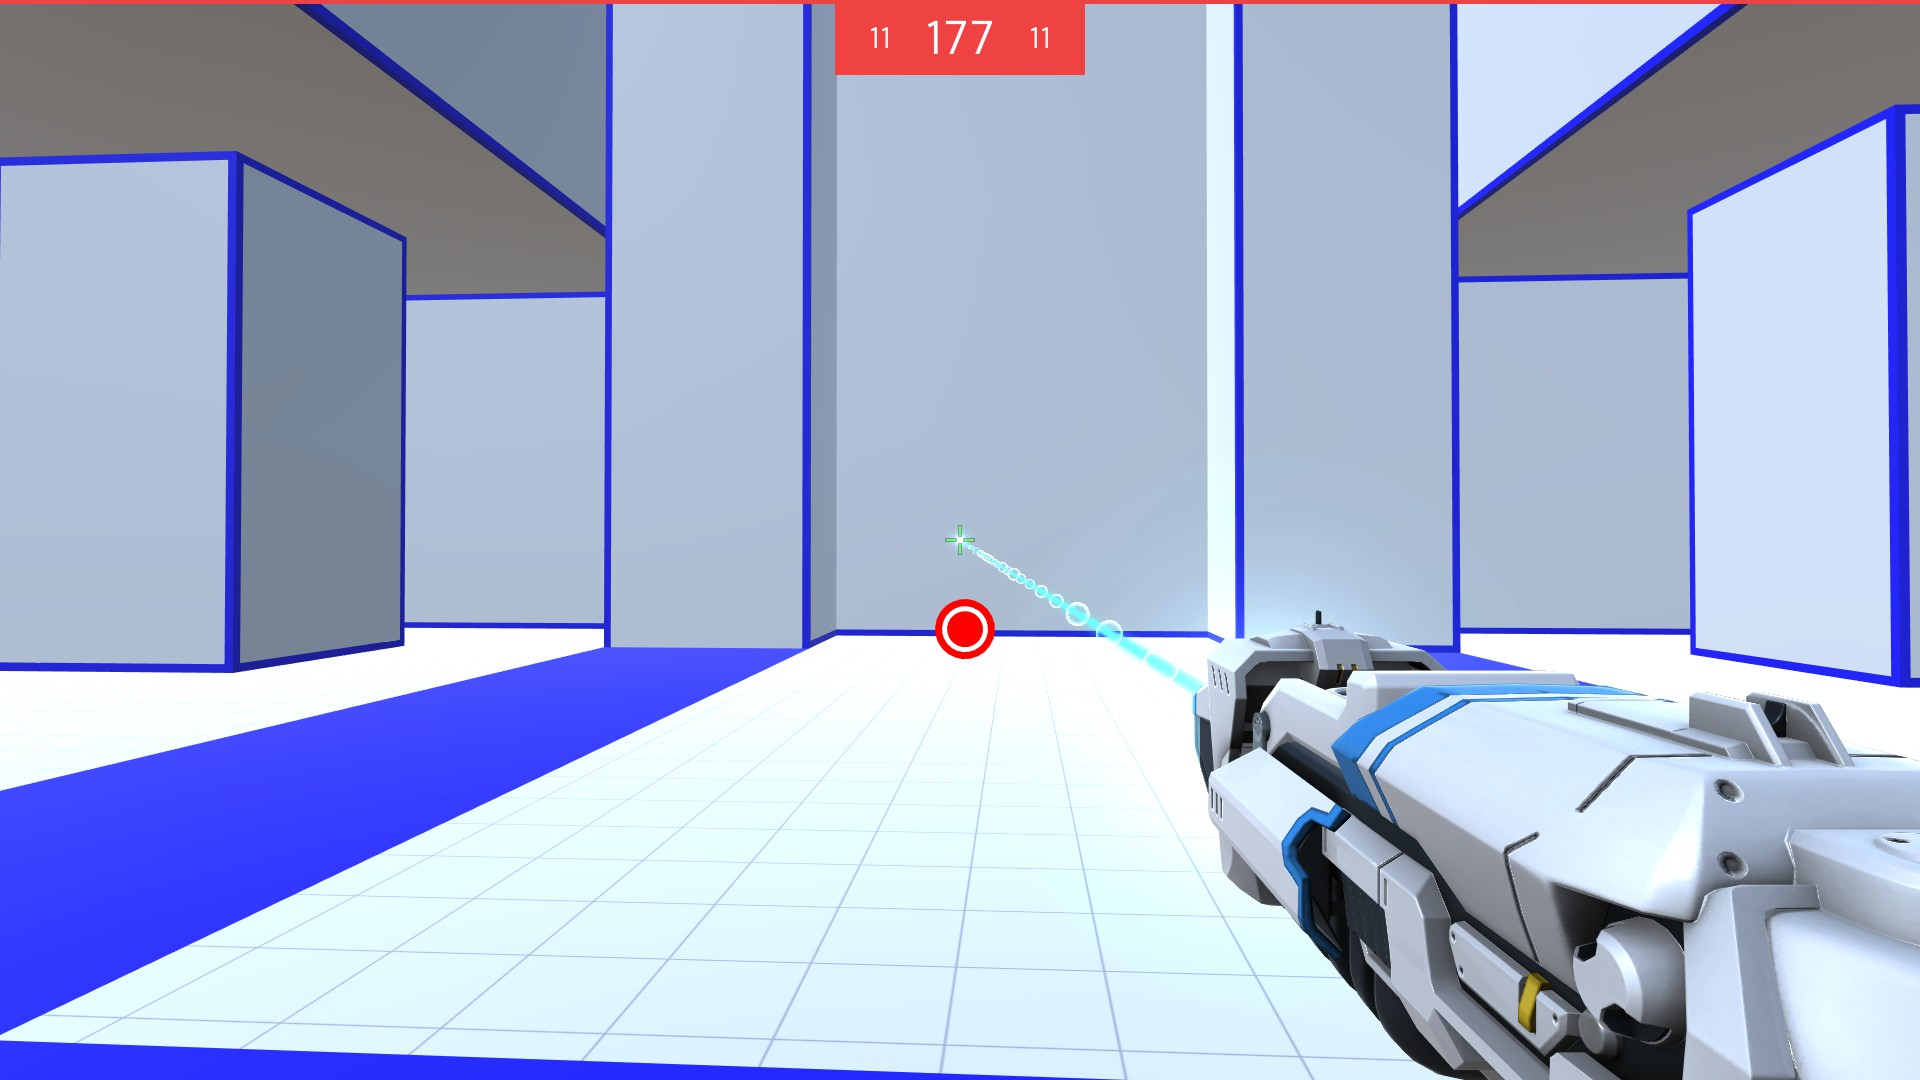target: (934, 597, 996, 659)
